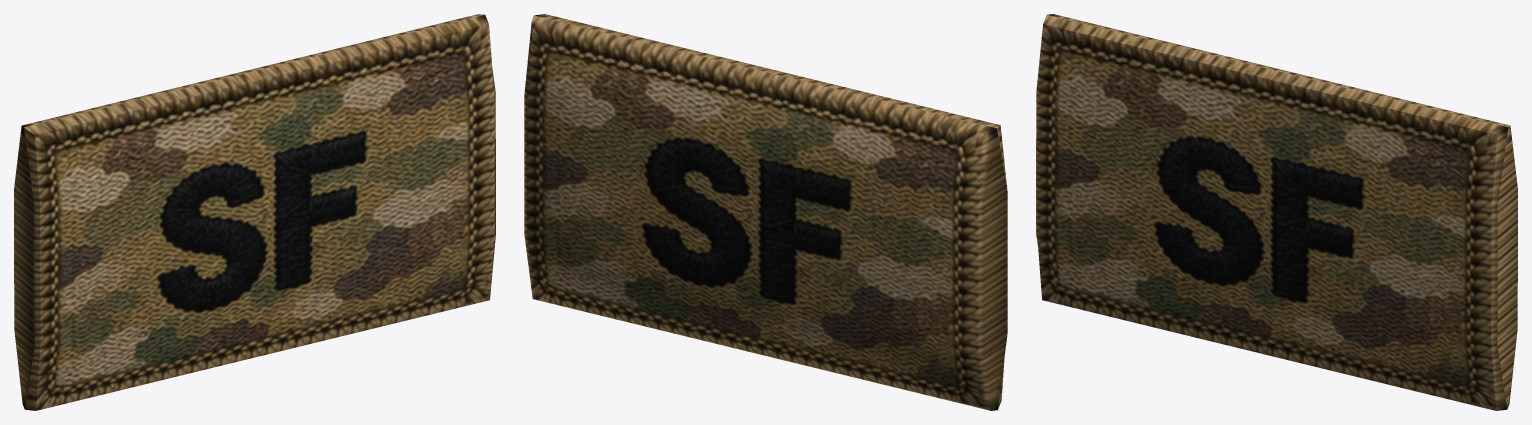
3 views of the same model, side by side, from view 1: azimuth 30°, elevation 25°; view 2: azimuth 150°, elevation 25°; view 3: azimuth 330°, elevation 25° (orthographic).
Visible parts, largest first — view 1: FlagPatch; view 2: FlagPatch; view 3: FlagPatch.
Part boxes in pixels (x1=…): FlagPatch: x1=14, y1=14, x2=495, y2=410; FlagPatch: x1=524, y1=14, x2=1007, y2=410; FlagPatch: x1=1036, y1=14, x2=1517, y2=410.
Size of the model in its own units: 9.23 by 5.38 by 0.9201.
